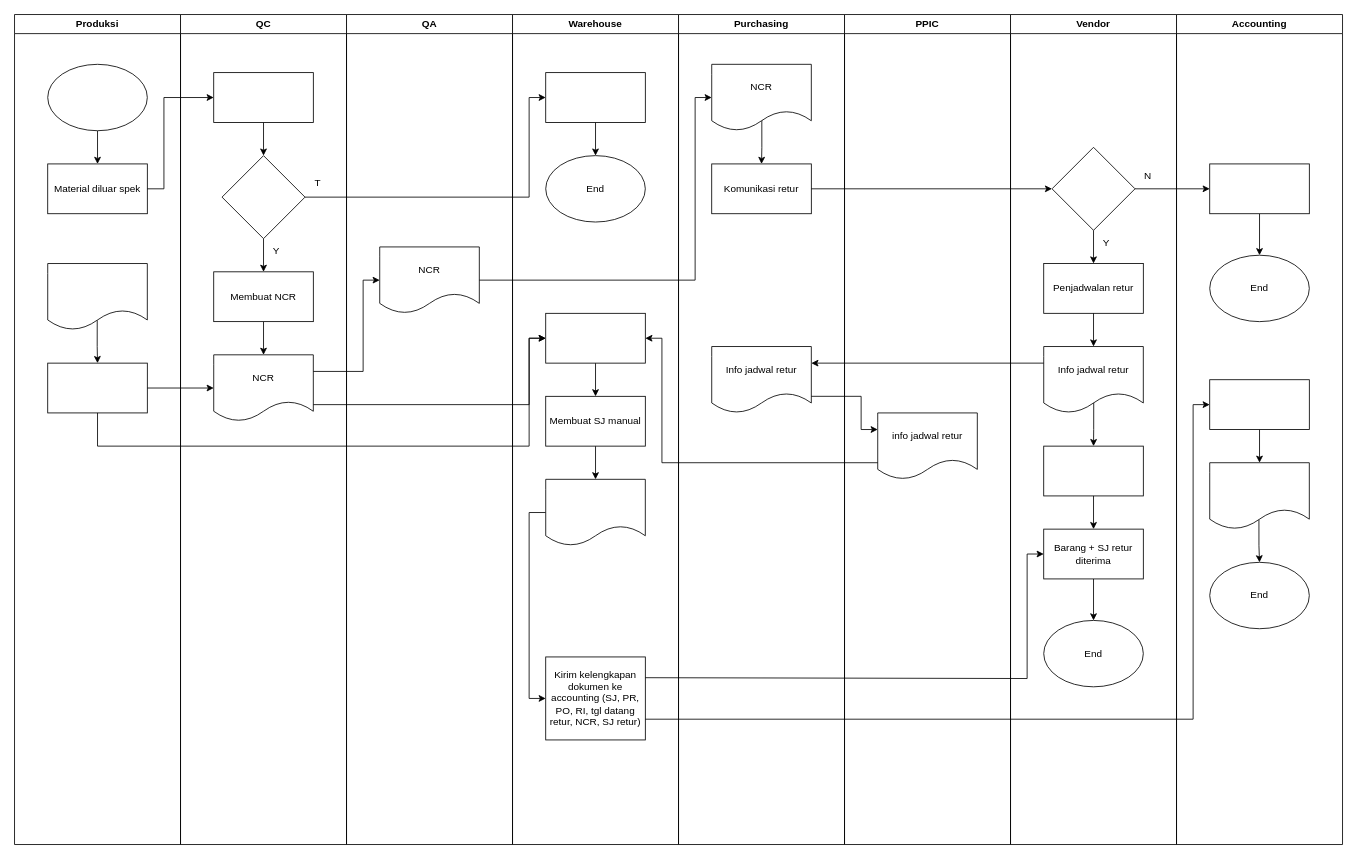
This 1357x859 diagram has some shape labels left out. The centre of each missing label's shape, as x and y in pixels:
"Approved ?" goes at (1093,188).
"Cek kualitas dan regulasi (dokumen)" goes at (263,97).
"Form retur" goes at (97,296).
"Kembali ke WH (melalui retur produksi)" goes at (595,97).
"Kirim produk, form retur, dan inventory transfer" goes at (97,387).
"Membuat nota retur" goes at (1259,404).
"Nota retur" goes at (1259,495).
"Pass ?" goes at (263,197).
"Pemotongan tagihan" goes at (1259,188).
"Persiapan barang retur" goes at (595,337).
"Pick up" goes at (1093,470).
"SJ manual" goes at (595,512).
"Start" goes at (97,97).
